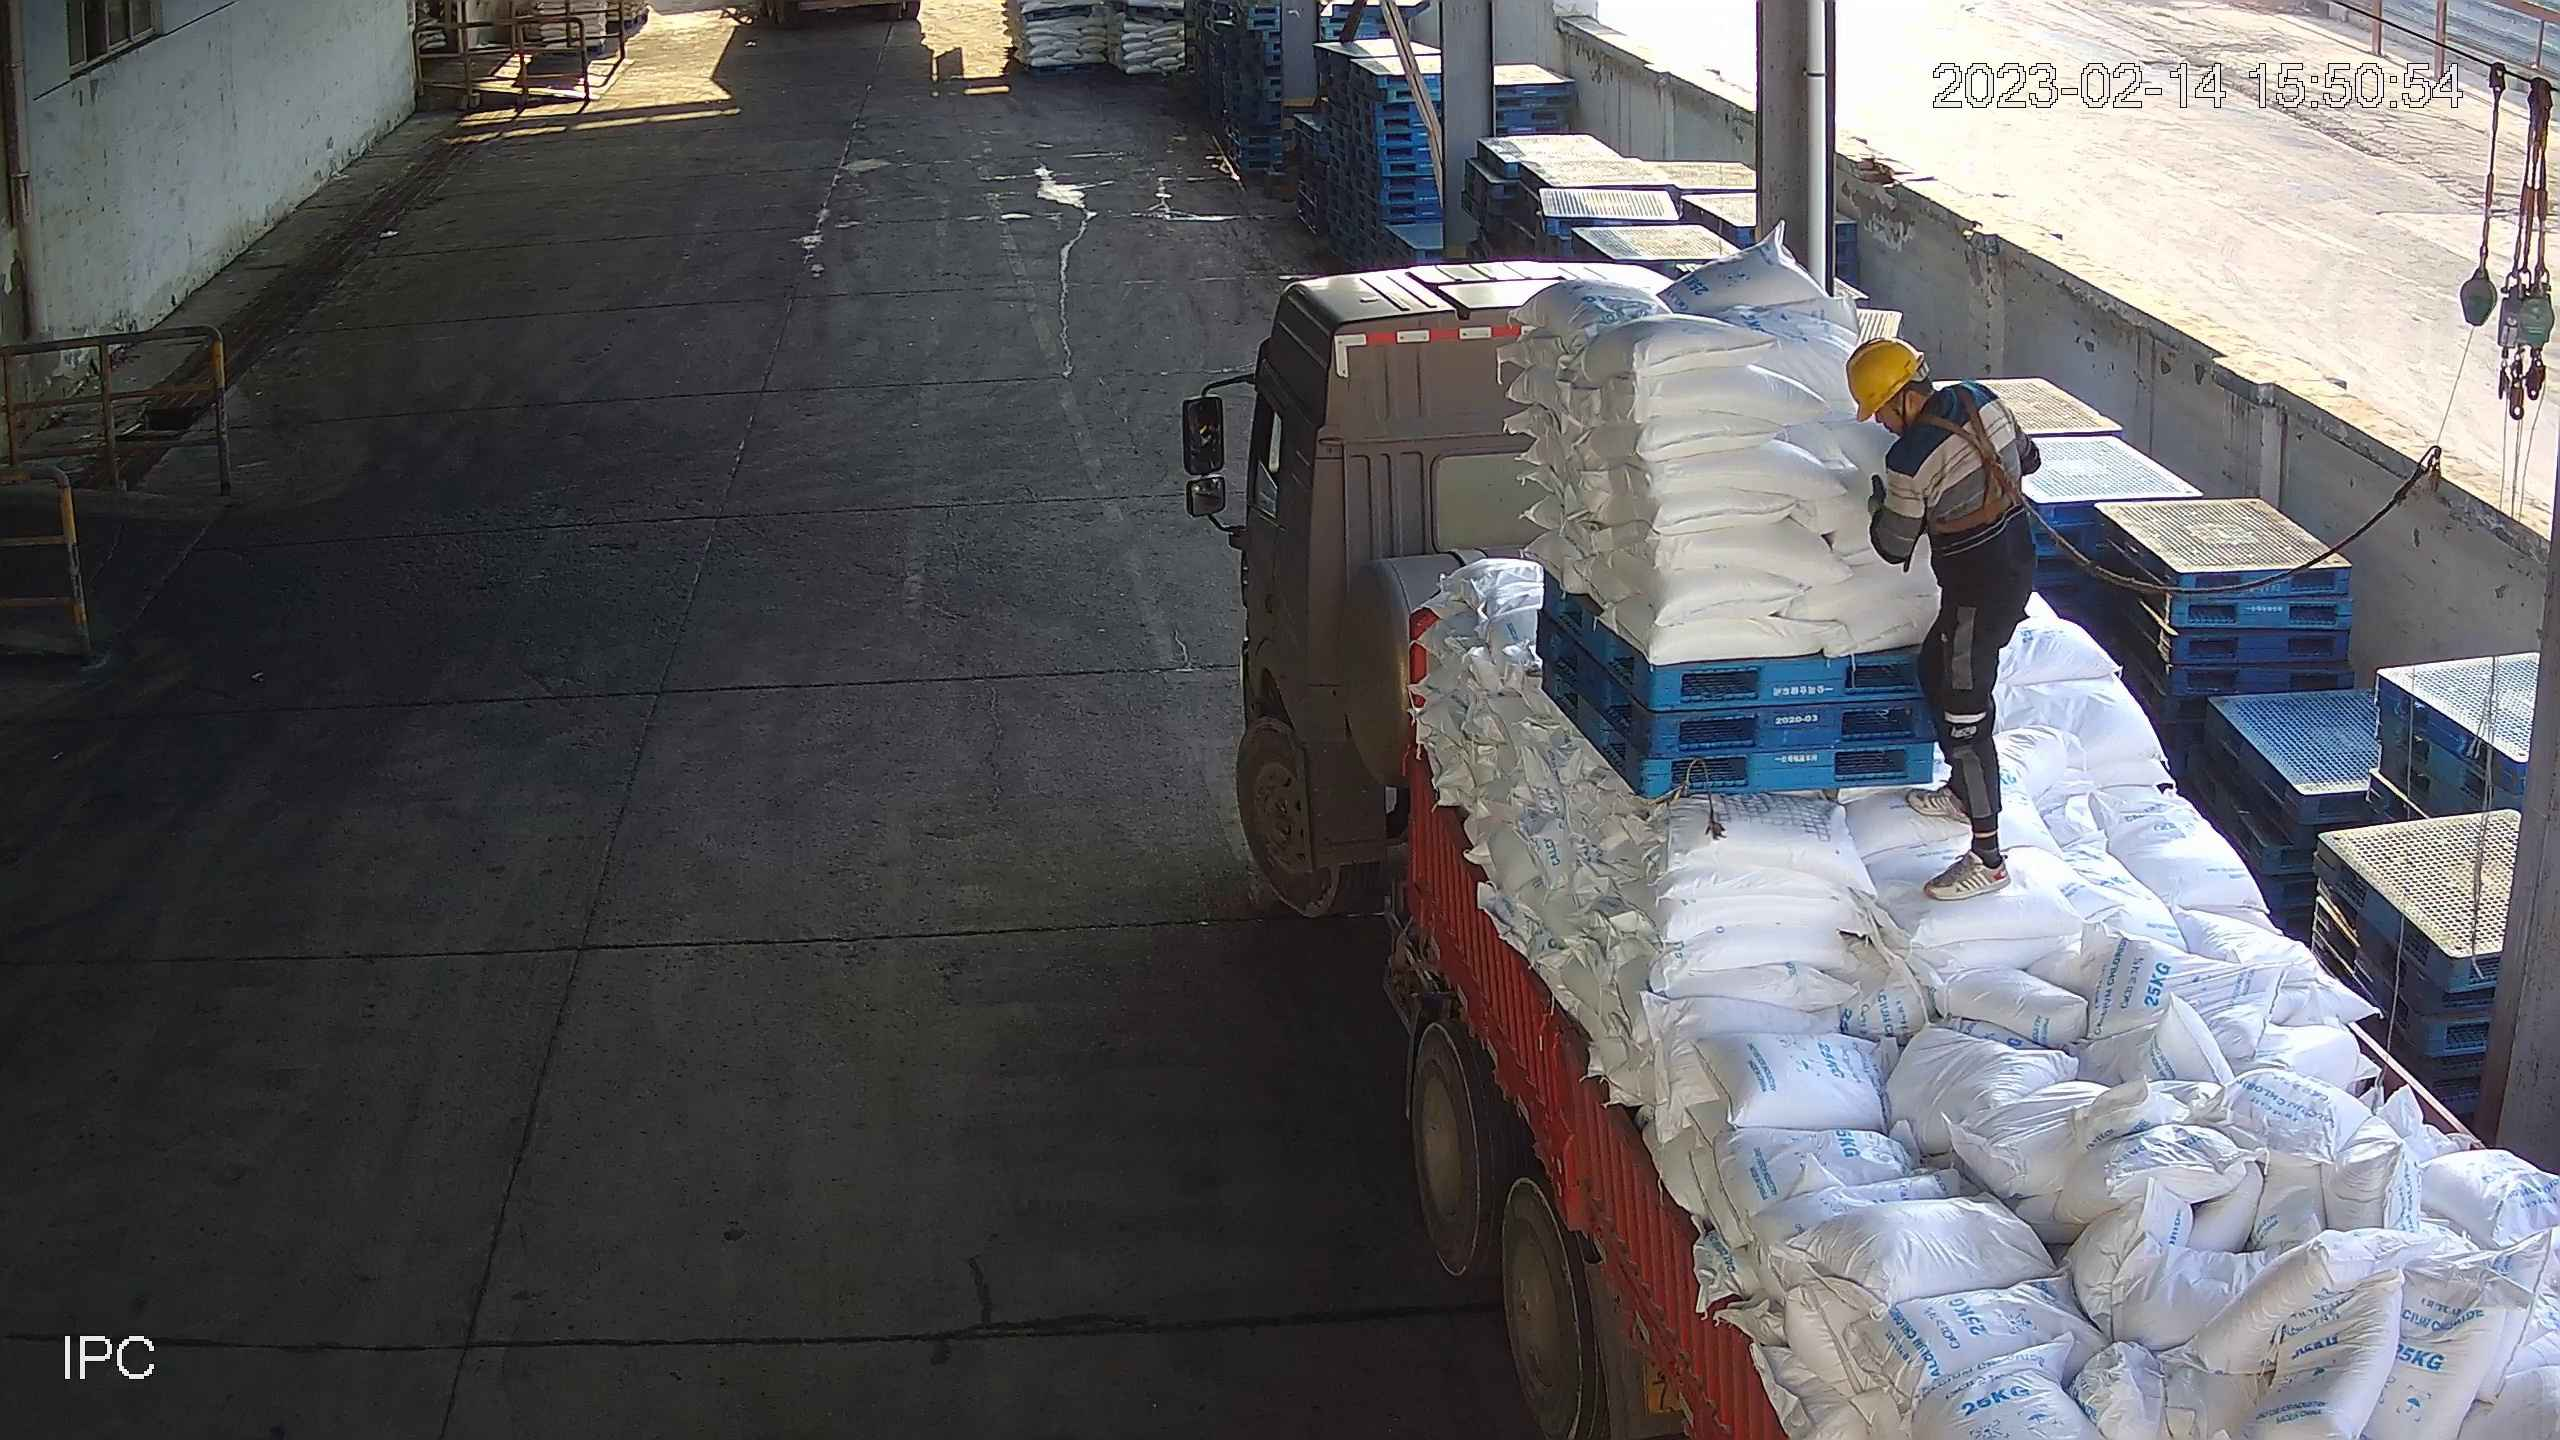belt: (1918, 383, 2039, 535)
head: (1846, 336, 2021, 476)
helmet: (1844, 336, 1924, 422)
people: (1846, 335, 2042, 899)
truck: (1234, 259, 2560, 1440)
